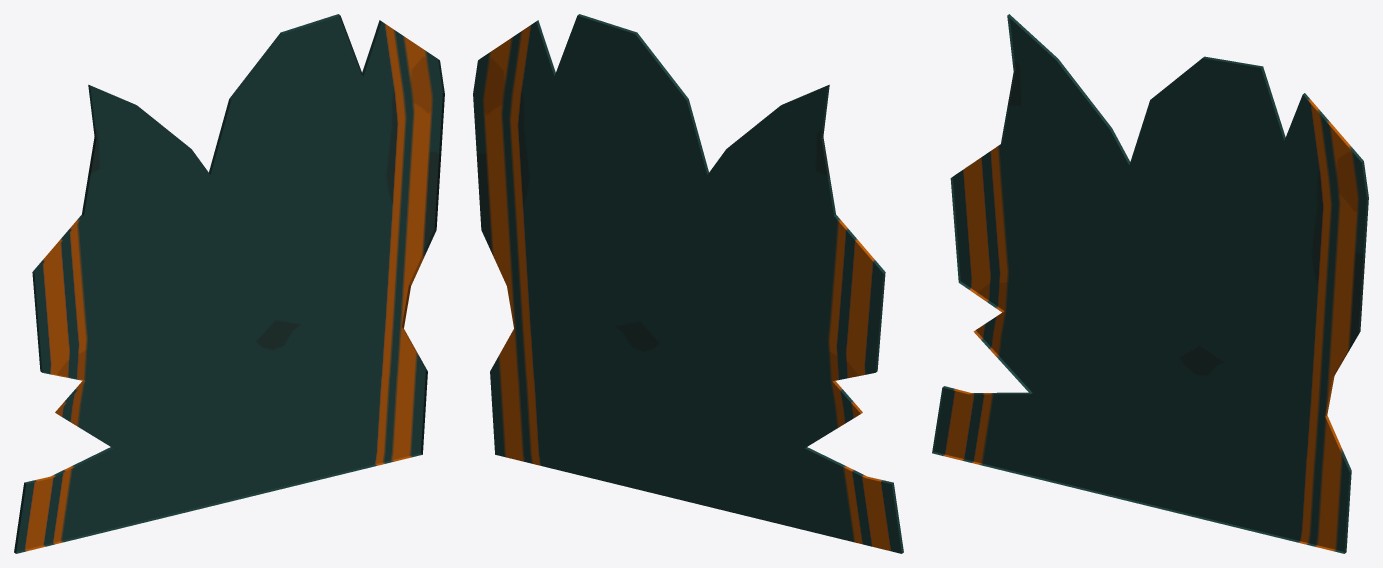
The model's file is Carpet 01 End 03.FBX.
The picture shows the model from 3 angles, left to right: view 1: azimuth 30°, elevation 25°; view 2: azimuth 150°, elevation 25°; view 3: azimuth 330°, elevation 25°; orthographic projection.
Visible parts, largest first — view 1: Carpet 01 End 03; view 2: Carpet 01 End 03; view 3: Carpet 01 End 03.
Boxes of the visible parts, box(x1,y1,x2,y2) form: Carpet 01 End 03: box(14, 14, 444, 553); Carpet 01 End 03: box(473, 14, 903, 553); Carpet 01 End 03: box(932, 14, 1368, 553).
Size of the model in its own units: 176 by 180 by 1.5.
